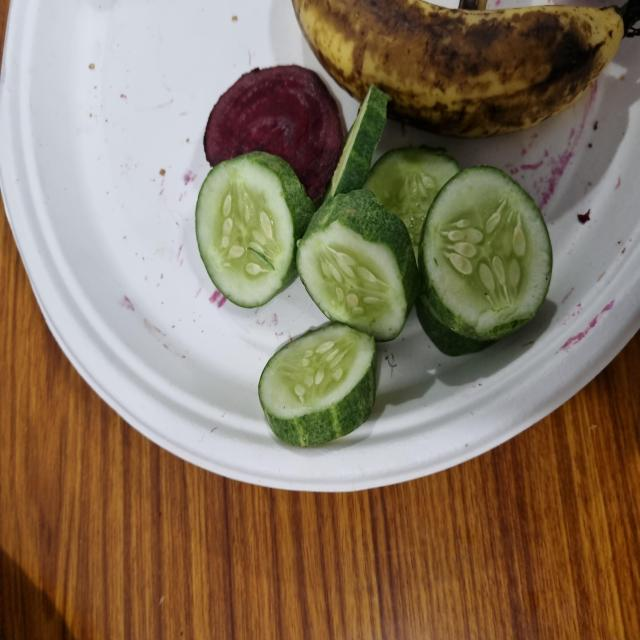banana: (401, 392, 480, 640)
cucumber: (249, 263, 367, 424), (224, 402, 336, 557), (144, 345, 240, 508), (212, 559, 355, 640), (294, 489, 370, 617)
